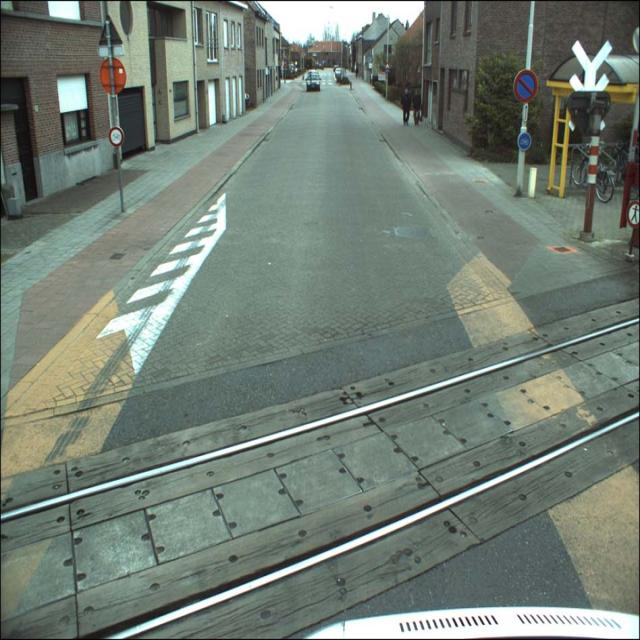parkyasak: (512, 70, 538, 102)
